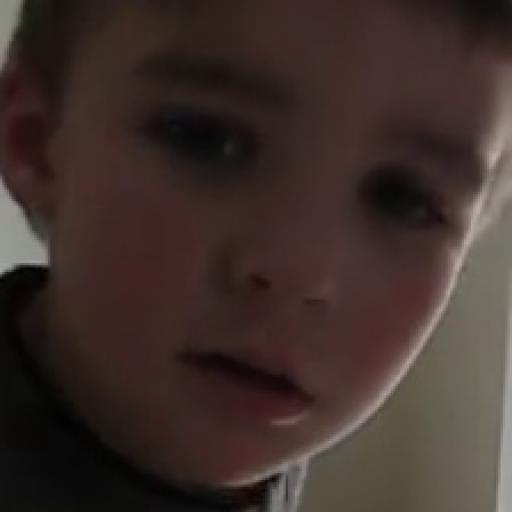Autism: (30, 0, 512, 455)
